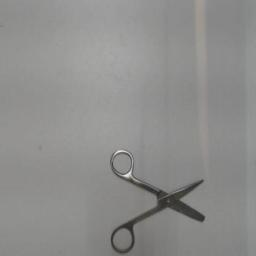Dressing Scissors: (104, 142, 210, 256)
